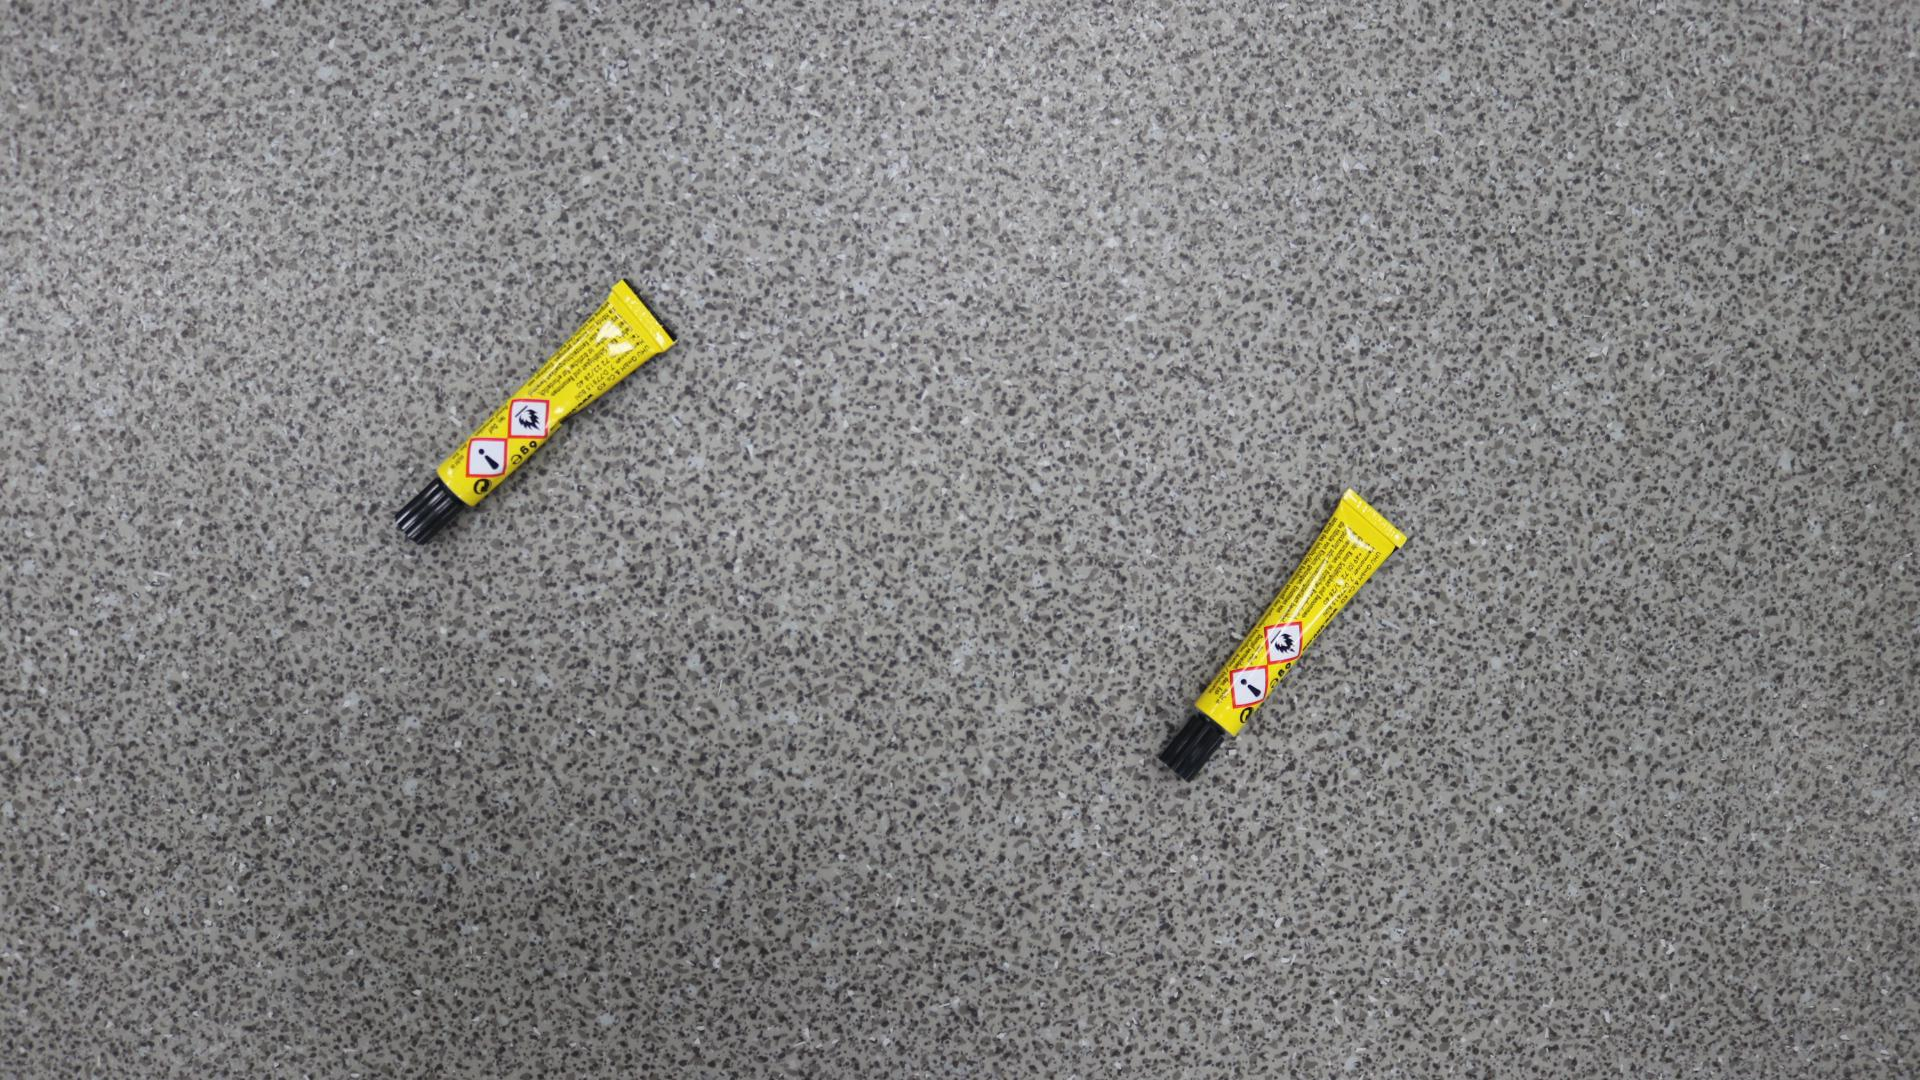Head: (423, 509, 433, 518), (1190, 745, 1196, 751)
Tail: (640, 311, 649, 320), (1372, 515, 1379, 522)
Tube: (392, 278, 680, 547), (1158, 490, 1409, 783)
